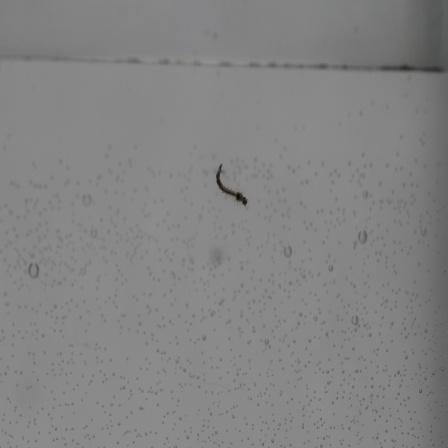Jentik-Nyamuk: (213, 156, 248, 214)
